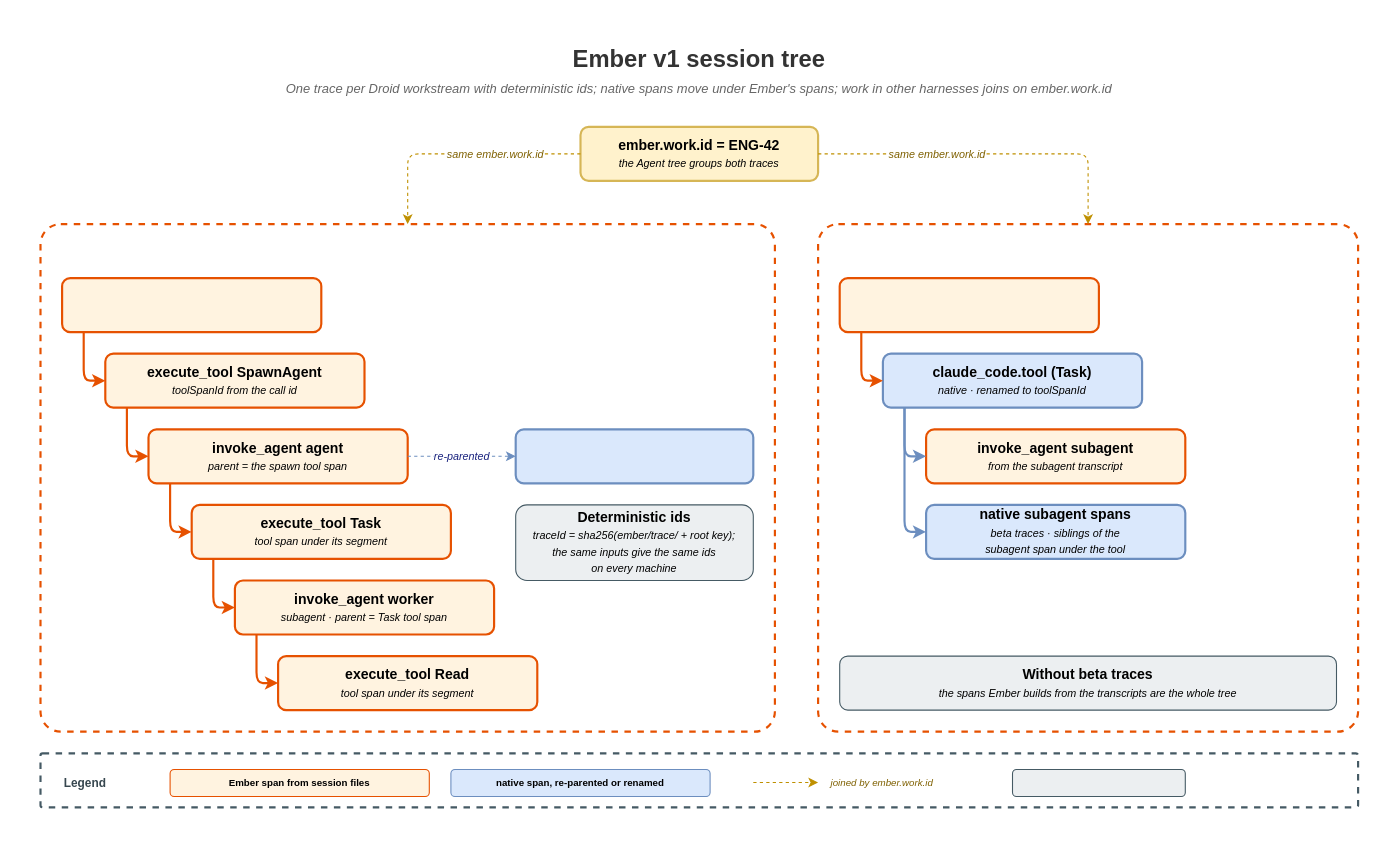
The diagram is 1398 pixels wide and 847 high, and some of its shapes have lost their labels. The box of each missing label's shape, as (x1, y1, x2, y2) in pixels:
Claude Code session · own trace (session/claude-code/<id>): (816, 222, 1359, 732)
Droid workstream · one trace (workstream/<id>): (39, 222, 775, 732)
invoke_agent orchestrator session span = segment 1: (60, 276, 322, 333)
invoke_agent session session span = segment 1: (838, 276, 1099, 333)
native Droid span genai span, moved under the agent's segment span: (514, 428, 754, 484)
note, not a span: (1011, 768, 1185, 796)
